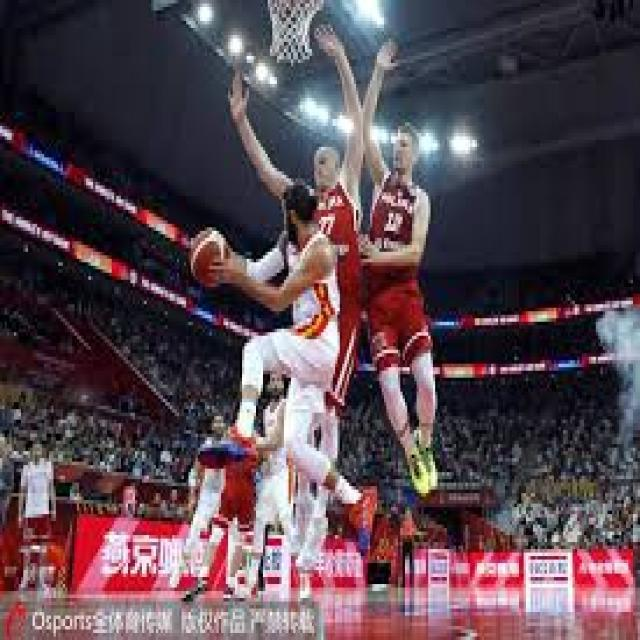rim: (193, 230, 228, 284)
